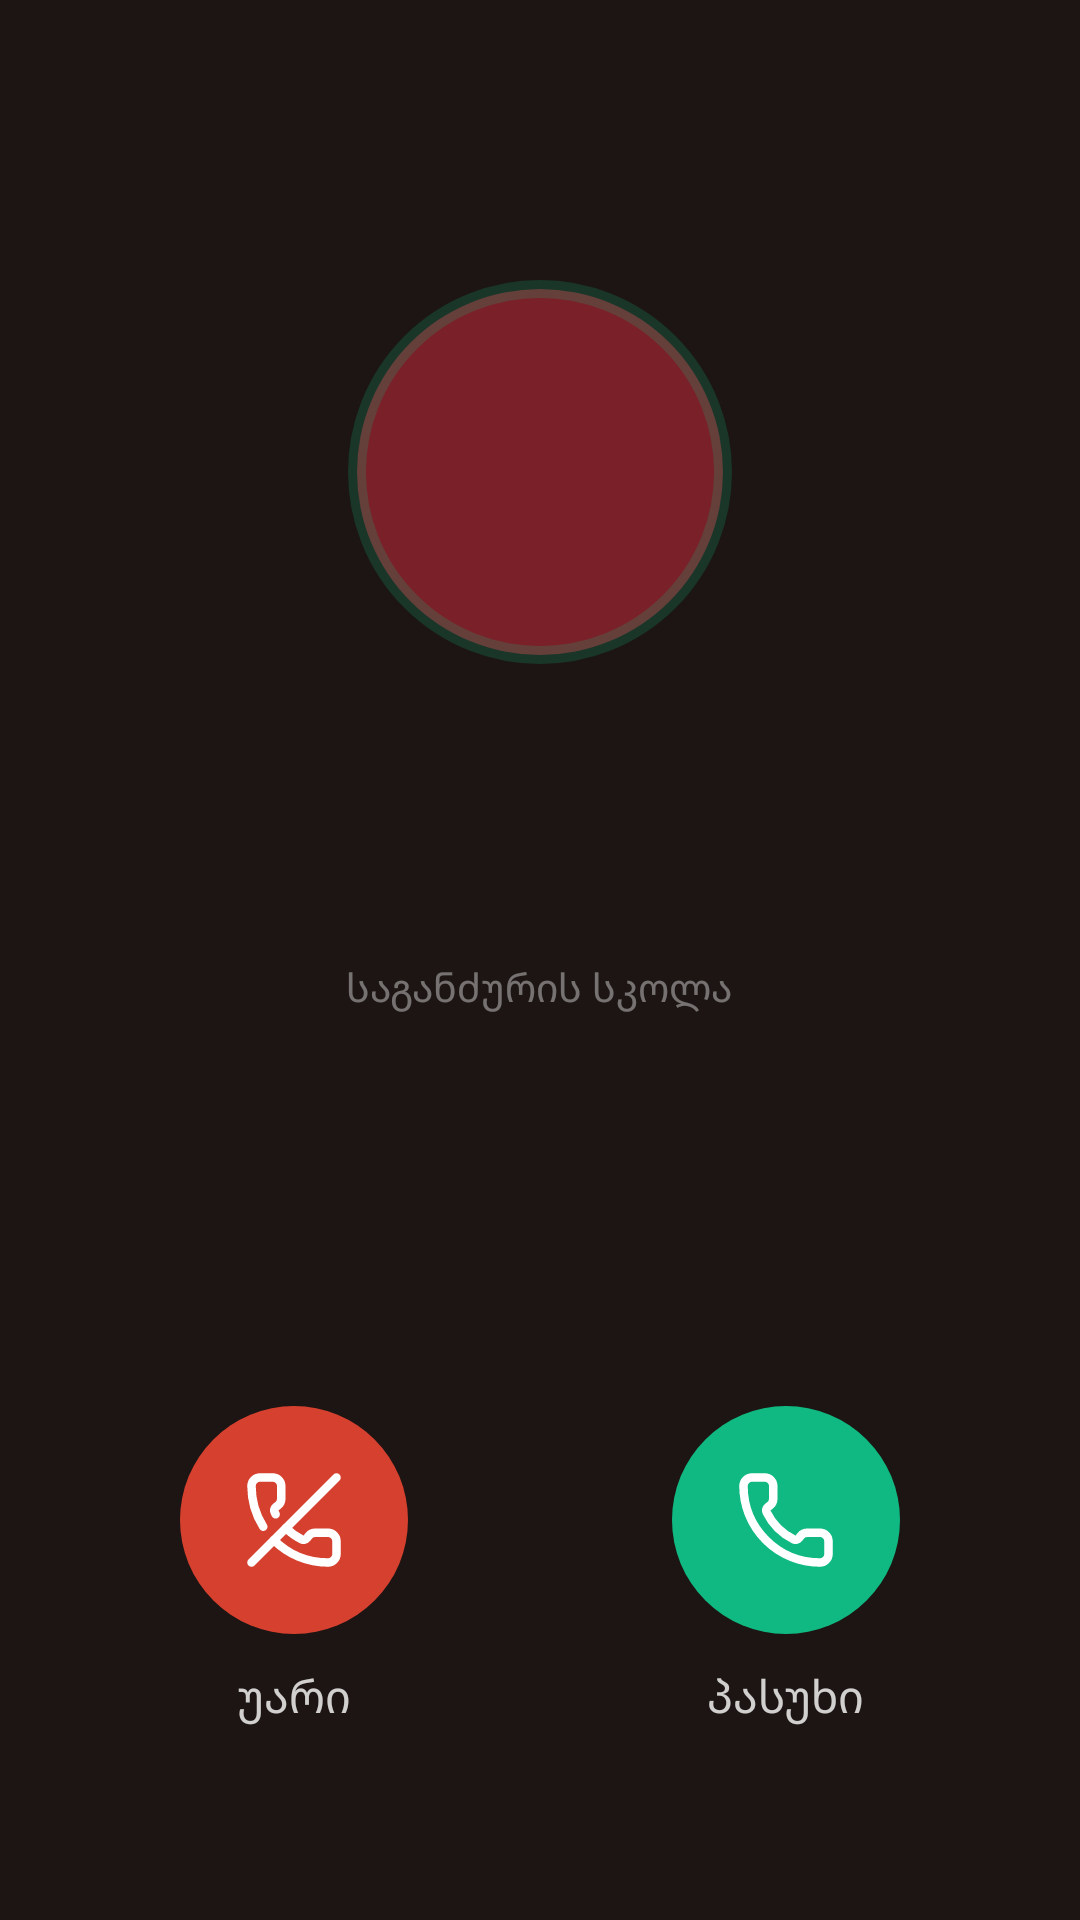

Screen size 1080*1920. Icon name, then its center in pixels as point (x, y):
phone: point (786, 1520)
phone off: point (294, 1520)
